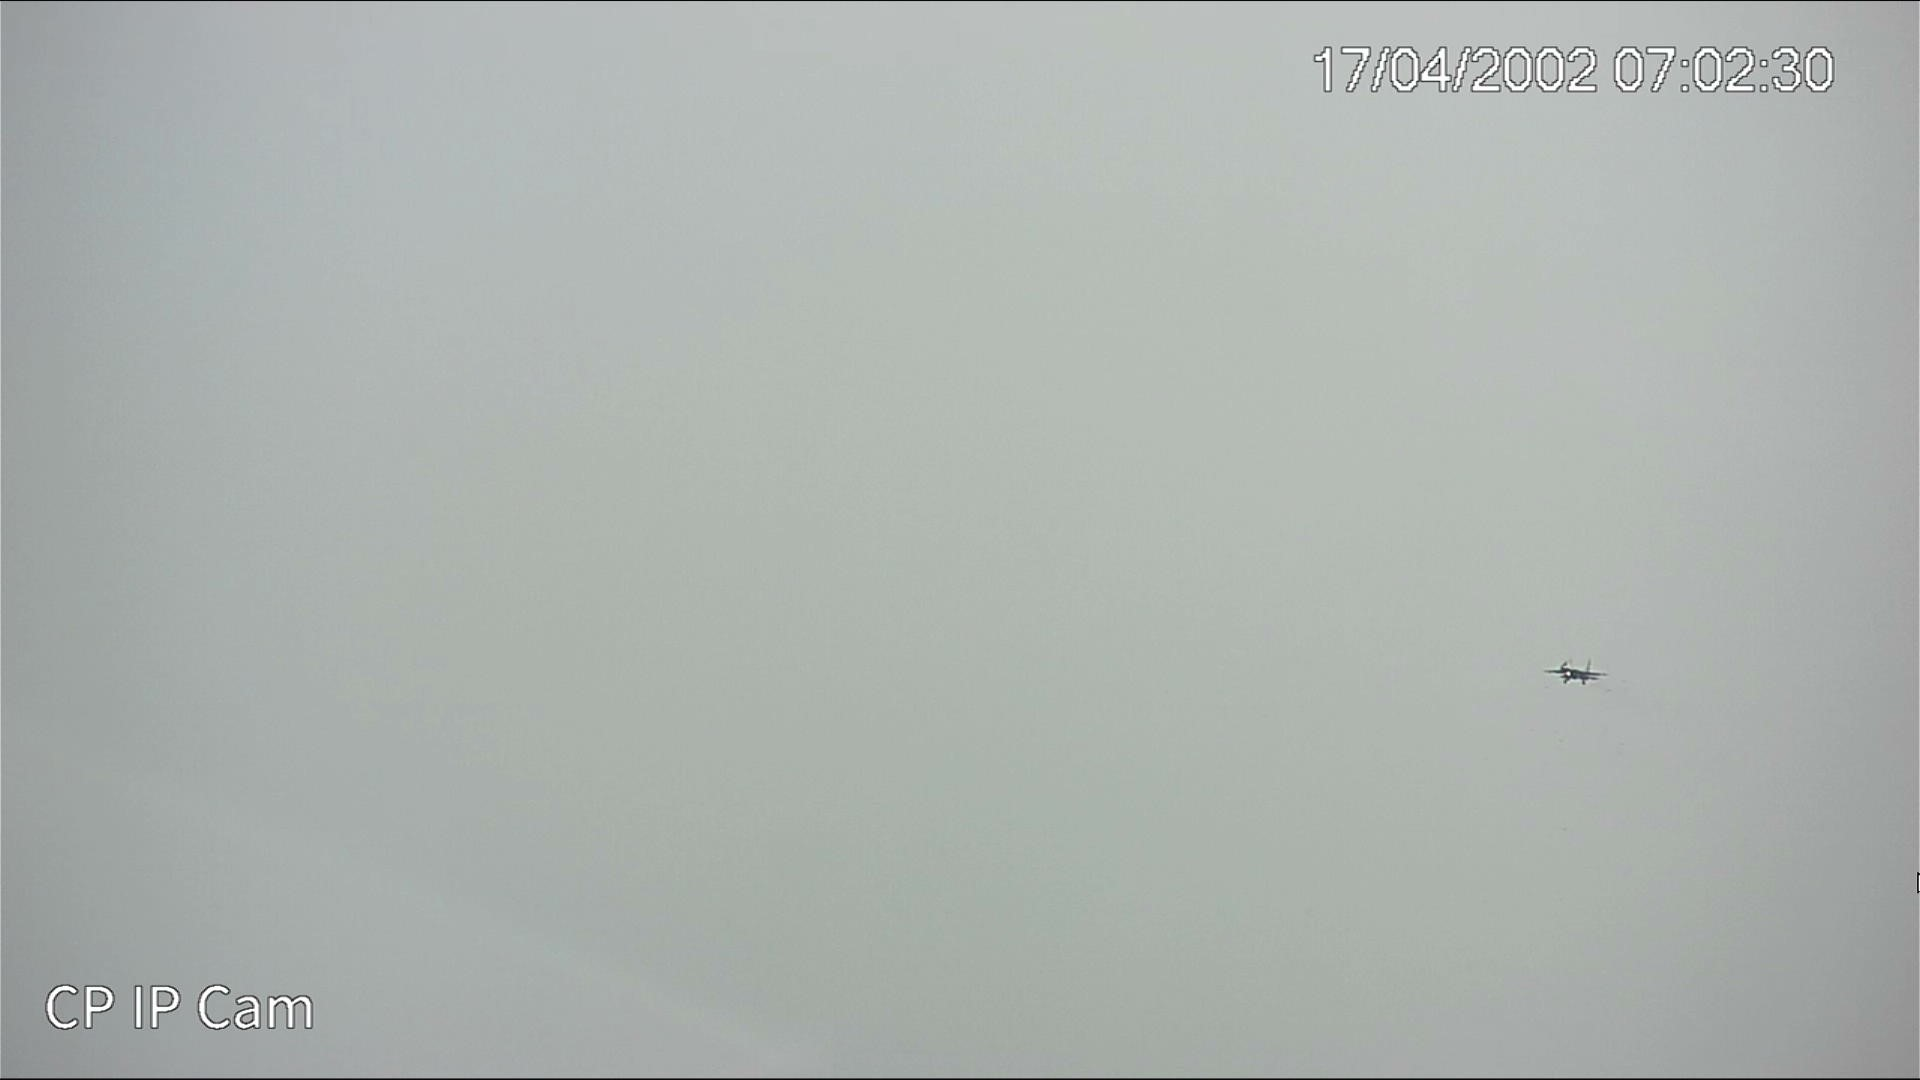SU_30: (1543, 659, 1607, 686)
